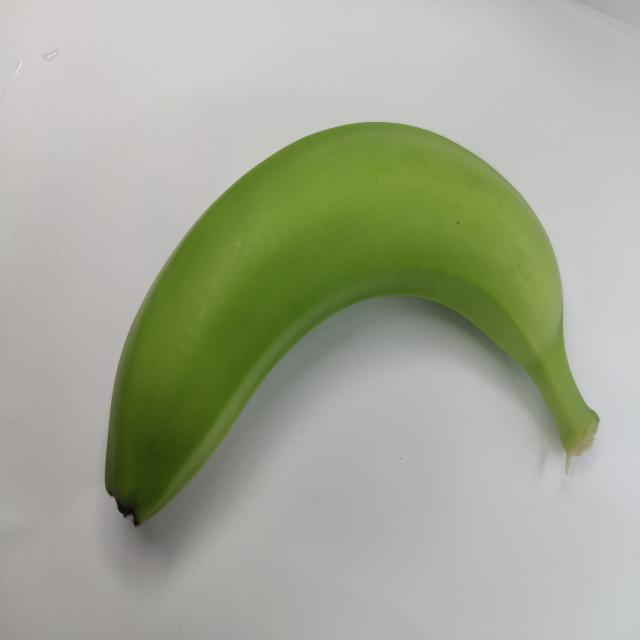raw: (90, 99, 604, 566)
